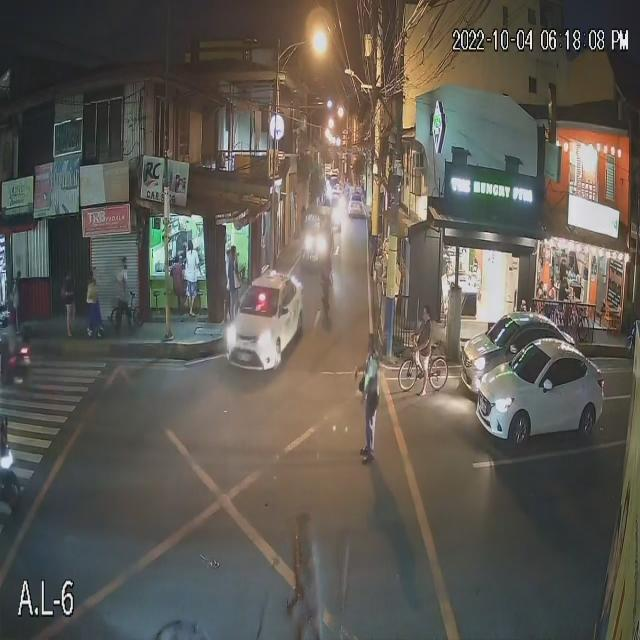motorcycle: (0, 419, 27, 520), (1, 336, 31, 386)
